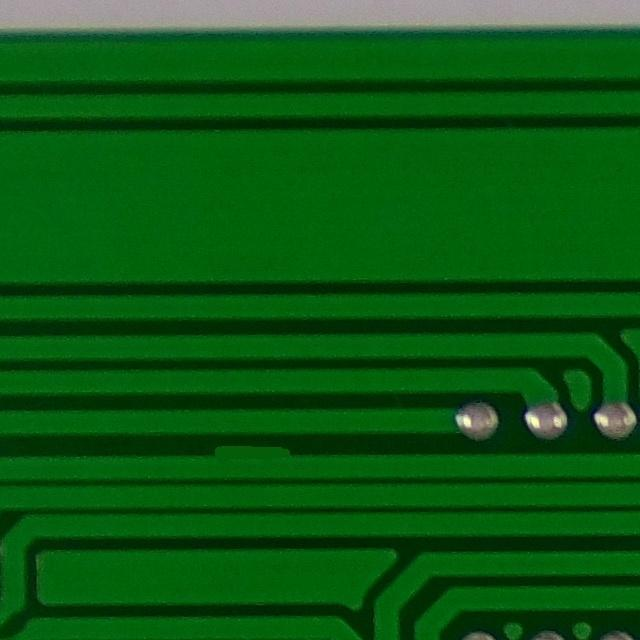spur: (201, 431, 302, 476)
